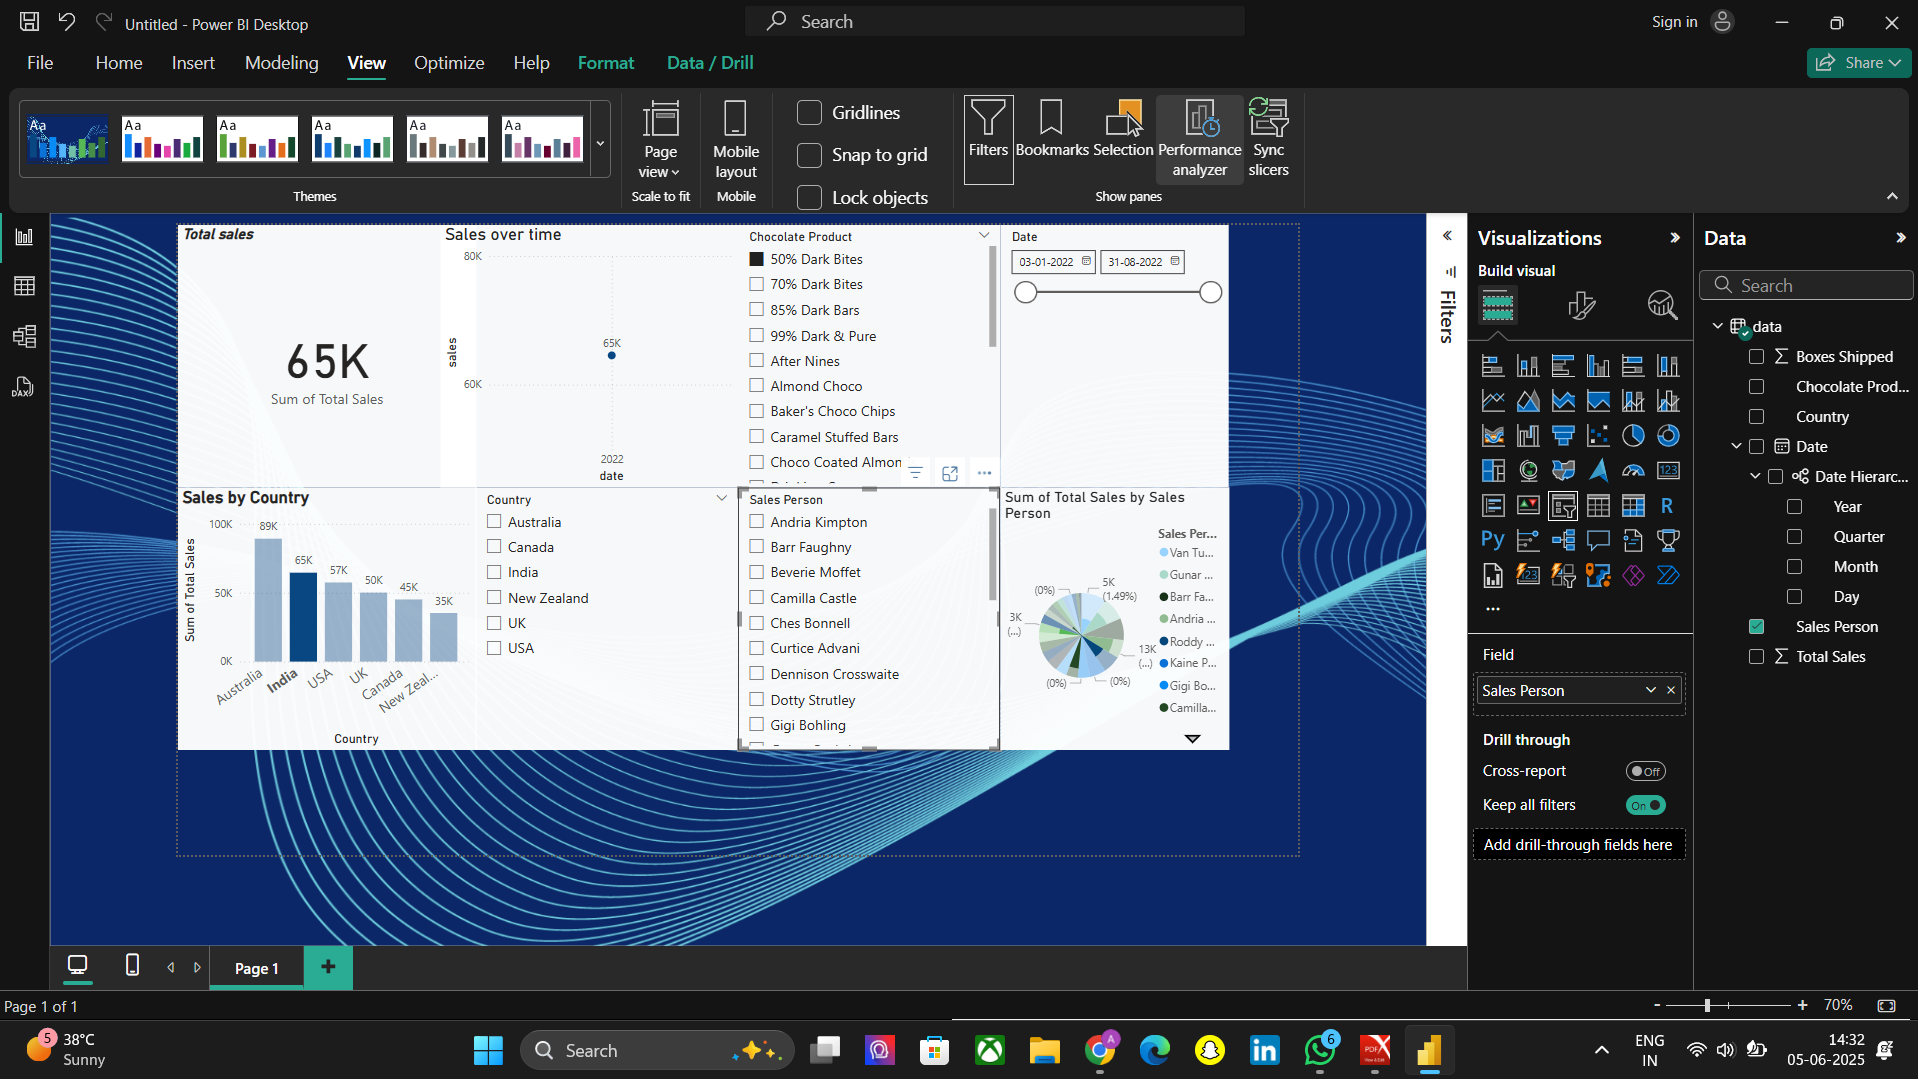

This screenshot's page, from the dashboard's own definition file:
{"tool":"powerbi","page":{"name":"Page 1","canvas":[1280,720],"ordinal":0},"visuals":[{"type":"card","title":"Total sales","fields":{"Values":["data.Total Sales"]},"box":[0,0,341.1,300],"z":0},{"type":"lineChart","title":"Sales over time","fields":{"Category":["data.Date.Variation.Date Hierarchy.Year","data.Date.Variation.Date Hierarchy.Quarter","data.Date.Variation.Date Hierarchy.Month","data.Date.Variation.Date Hierarchy.Day"],"Y":["data.Total Sales"]},"box":[300,0,340,300],"z":1000},{"type":"columnChart","title":"Sales by Country","fields":{"Category":["data.Country"],"Y":["data.Total Sales"]},"box":[0,300,341.4,300],"z":2000},{"type":"slicer","fields":{"Values":["data.Country"]},"box":[340,300,300,300],"z":3000},{"type":"slicer","fields":{"Values":["data.Chocolate Product"]},"box":[640,0,300,300],"z":4000},{"type":"slicer","fields":{"Values":["data.Sales Person"]},"box":[640,300,300,300],"z":5000},{"type":"slicer","fields":{"Values":["data.Date"]},"box":[940,0,261.1,300],"z":6000},{"type":"pieChart","fields":{"Category":["data.Sales Person"],"Y":["data.Total Sales"]},"box":[940,300,261.4,300],"z":7000}]}

Visuals, with their boxes on the page's 1280x720 design canvas (x1, y1, x2, y2). These are canvas units, not pixel positions in the 1918x1079 screenshot, which may show the page scaled, cropped or inside an application window:
"Total sales" card: Rect(0, 0, 341, 300)
"Sales over time" lineChart: Rect(300, 0, 640, 300)
"Sales by Country" columnChart: Rect(0, 300, 341, 600)
slicer - data.Country: Rect(340, 300, 640, 600)
slicer - data.Chocolate Product: Rect(640, 0, 940, 300)
slicer - data.Sales Person: Rect(640, 300, 940, 600)
slicer - data.Date: Rect(940, 0, 1201, 300)
pieChart - data.Sales Person x data.Total Sales: Rect(940, 300, 1201, 600)
